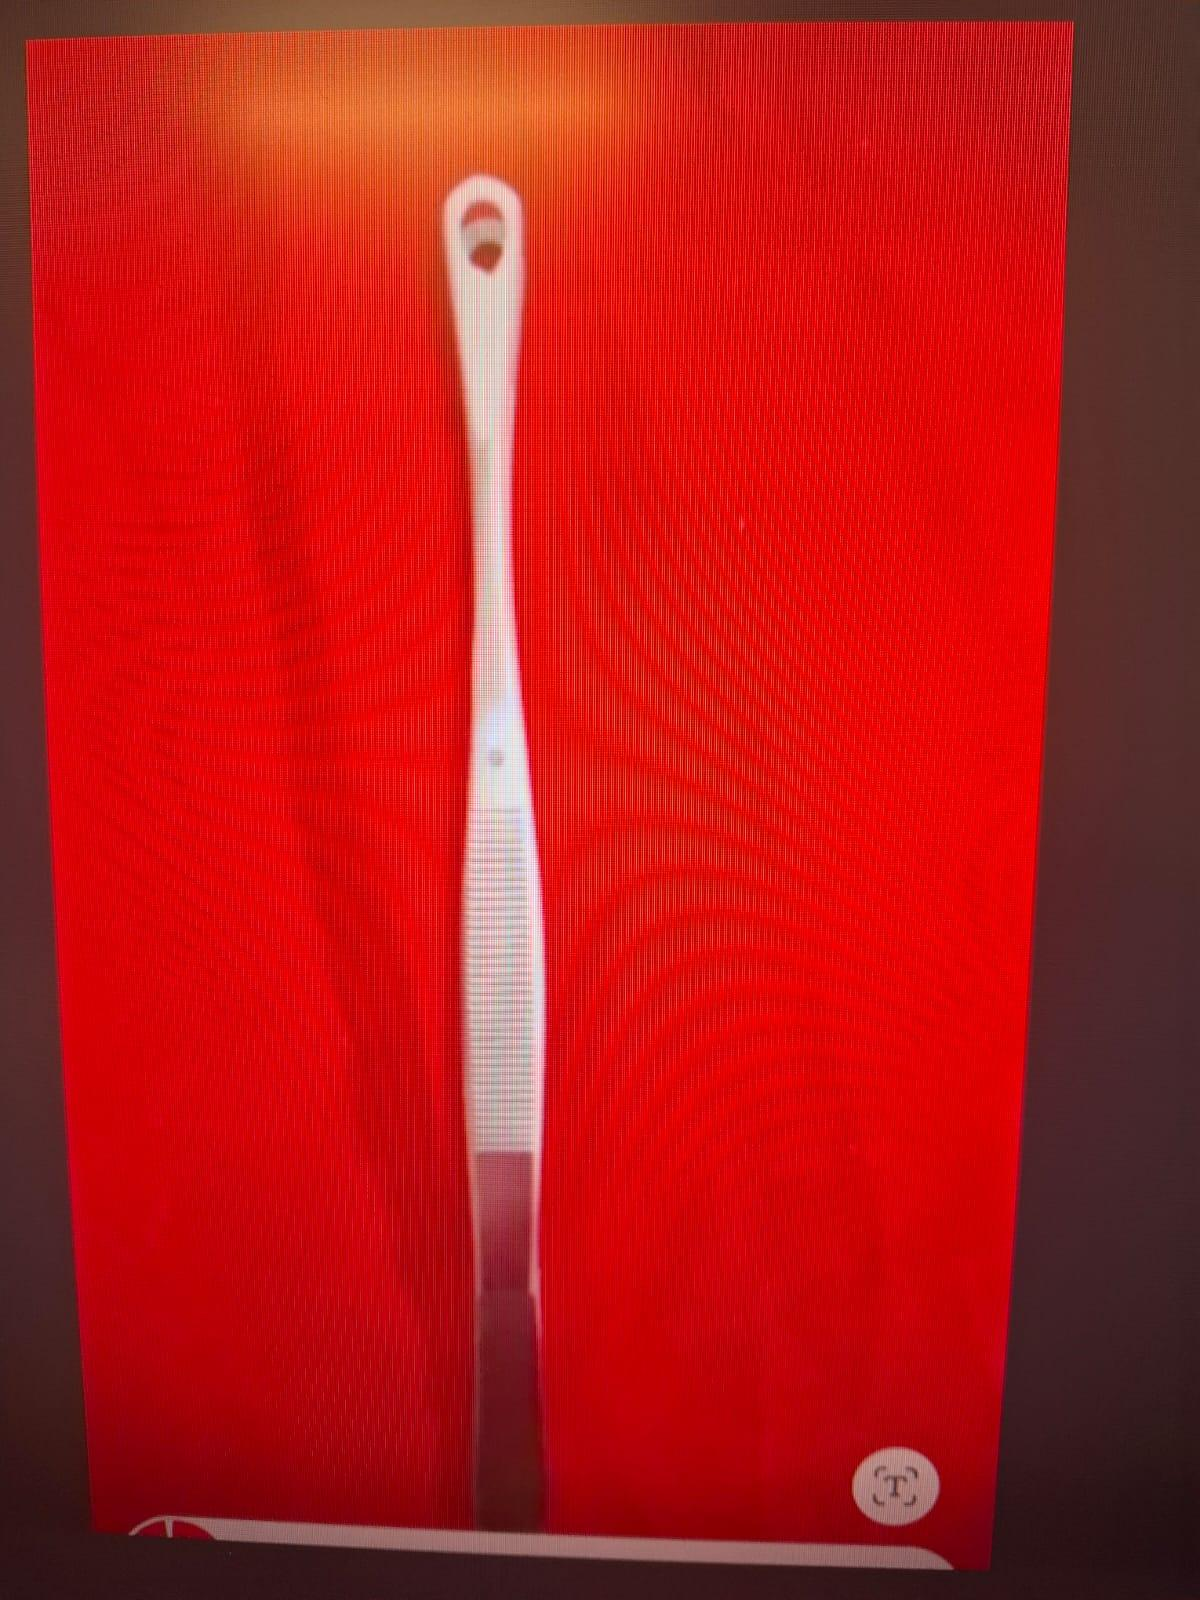Eye Intestinal Forceps: (422, 160, 608, 1534)
